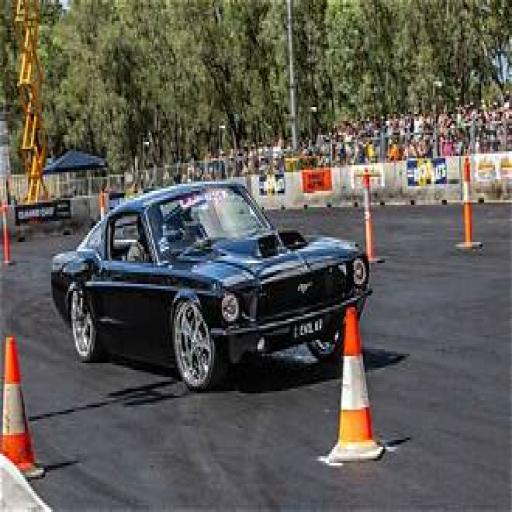car: (45, 190, 372, 360)
